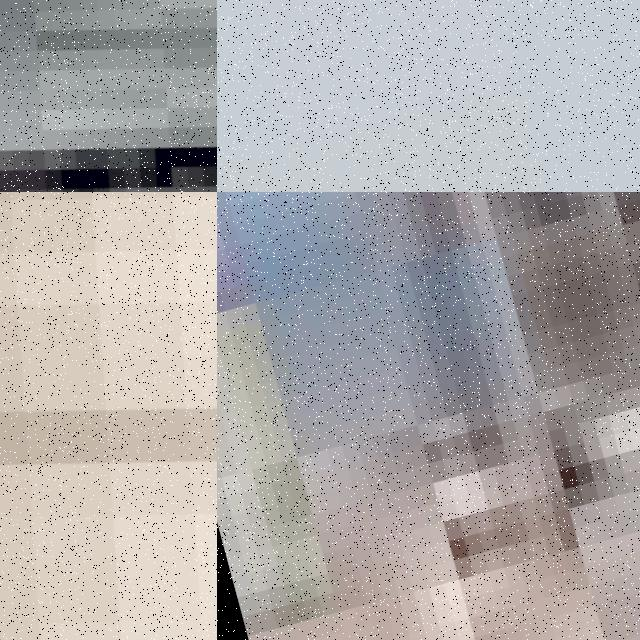drone: (0, 192, 217, 640), (0, 0, 217, 192)
